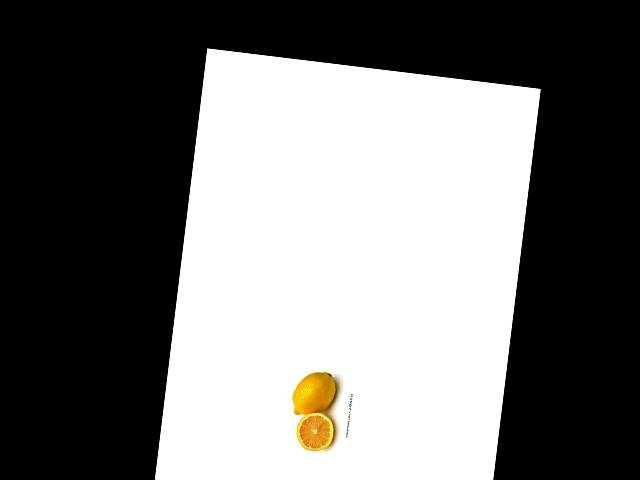lemon: (290, 365, 339, 419)
